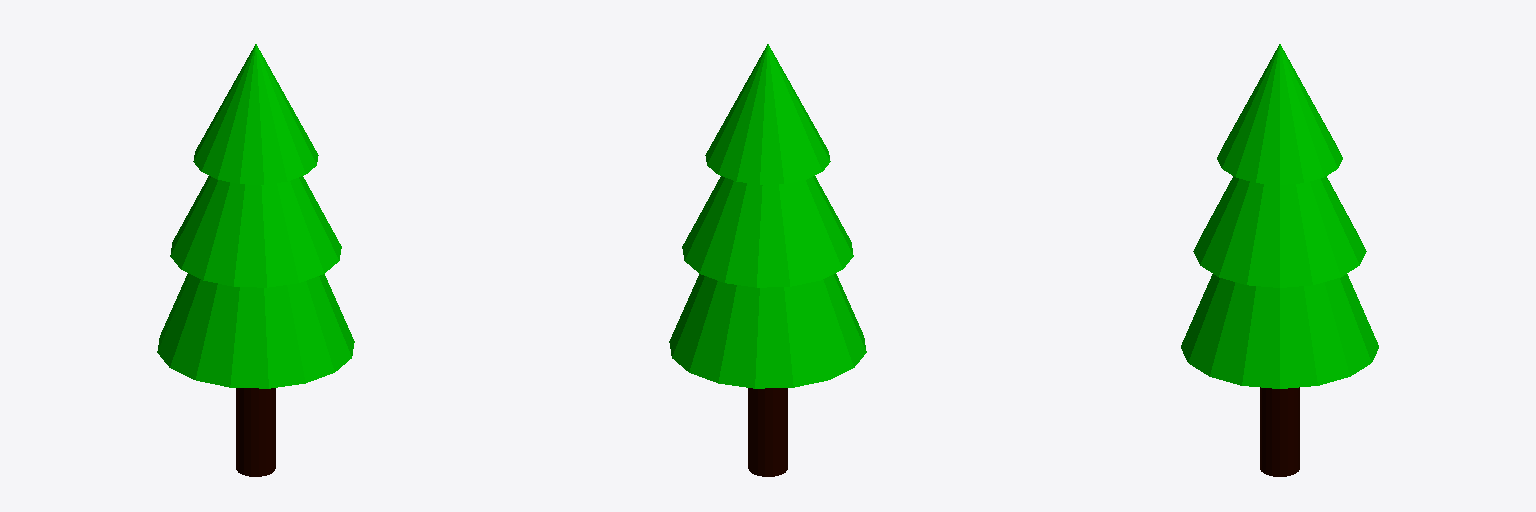
The model's file is PineTree.obj.
3 views of the same model, side by side, from view 1: azimuth 30°, elevation 25°; view 2: azimuth 150°, elevation 25°; view 3: azimuth 270°, elevation 25° (orthographic).
Parts seen in each view (by area): view 1: Cylinder; view 2: Cylinder; view 3: Cylinder.
Part boxes in pixels (bbox=[...]): Cylinder: bbox=[157, 44, 354, 476]; Cylinder: bbox=[669, 44, 866, 476]; Cylinder: bbox=[1181, 44, 1378, 476].
Bounding box in the file's own units: 1 × 2.36 × 1.